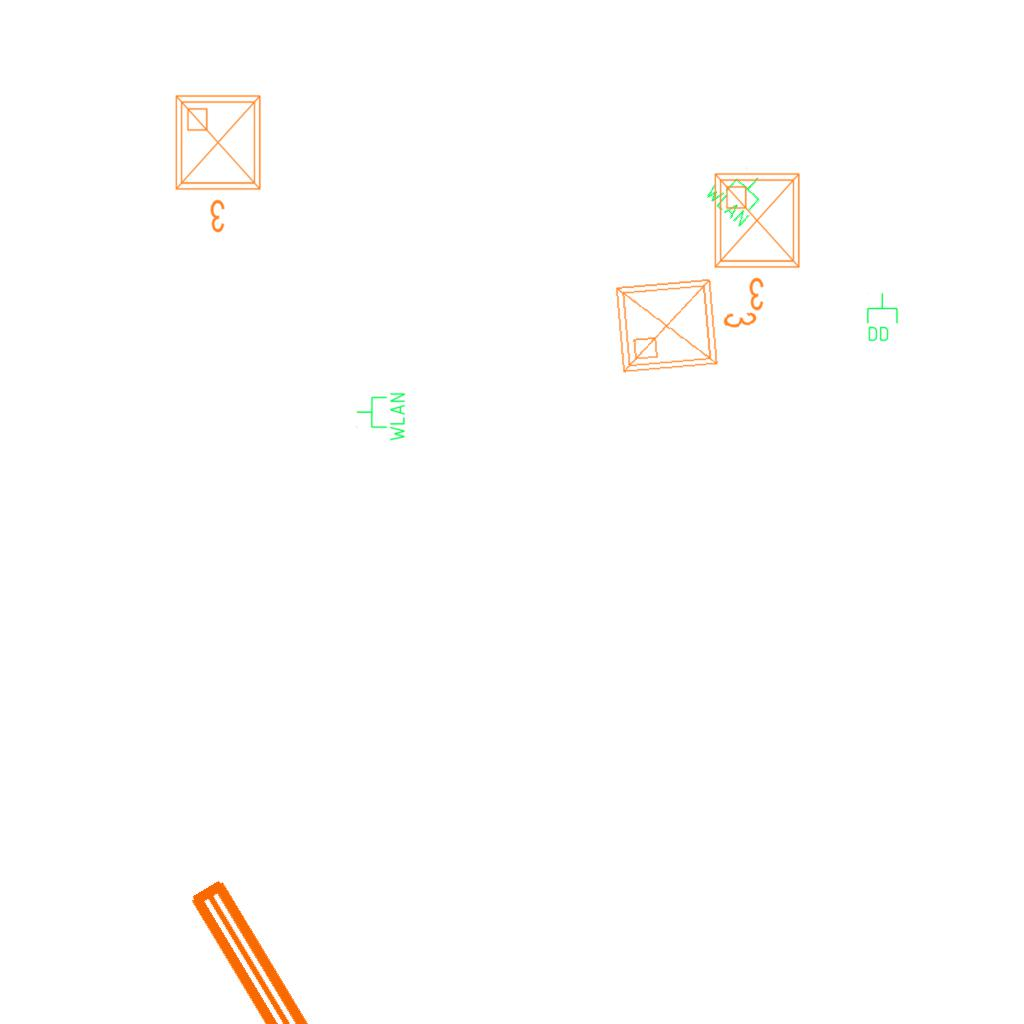Ambulanz_Pendelleuchte_LED: (173, 837, 669, 1024)
Datenanschluss_zweifach: (865, 292, 899, 343)
Einbaudownlights_LED_Konferenzraeume: (607, 263, 767, 381), (168, 88, 272, 238), (707, 166, 811, 316)
WLAN: (701, 156, 775, 230), (355, 391, 407, 443)
